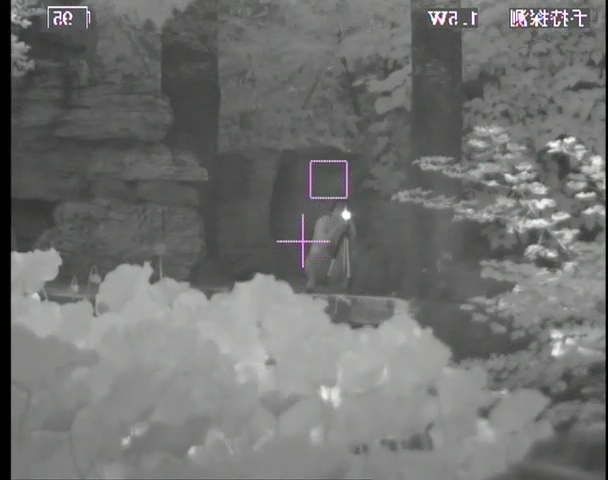my: (340, 209, 352, 222)
